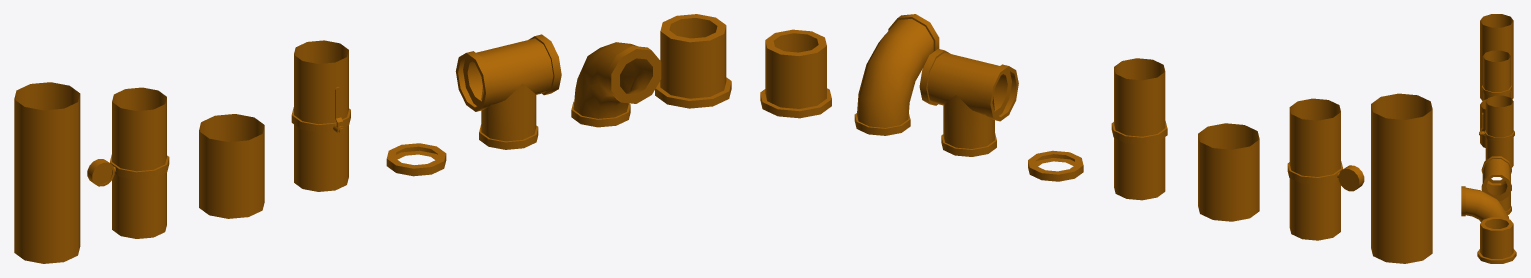
File: SM_Pipes.fbx
The picture shows the model from 3 angles, left to right: view 1: azimuth 30°, elevation 25°; view 2: azimuth 150°, elevation 25°; view 3: azimuth 270°, elevation 25°; orthographic projection. The views are drawn at different scales.
Visible parts, largest first — view 1: GEO_Pipe, GEO_Pipe_Gauge, GEO_Pipe_Intersect, GEO_Pipe_Valve, GEO_Pipe_Half, GEO_Pipe_Base, GEO_Pipe_Corner, GEO_Pipe_Ring; view 2: GEO_Pipe, GEO_Pipe_Gauge, GEO_Pipe_Intersect, GEO_Pipe_Valve, GEO_Pipe_Corner, GEO_Pipe_Half, GEO_Pipe_Base, GEO_Pipe_Ring; view 3: GEO_Pipe_Valve, GEO_Pipe_Base, GEO_Pipe, GEO_Pipe_Gauge, GEO_Pipe_Intersect, GEO_Pipe_Corner, GEO_Pipe_Half.
Part boxes in pixels (left/top/right/bottom): GEO_Pipe: left=14, top=82, right=80, bottom=263; GEO_Pipe_Gauge: left=87, top=87, right=169, bottom=238; GEO_Pipe_Intersect: left=455, top=34, right=561, bottom=149; GEO_Pipe_Valve: left=291, top=40, right=350, bottom=191; GEO_Pipe_Half: left=199, top=114, right=264, bottom=218; GEO_Pipe_Base: left=655, top=14, right=731, bottom=108; GEO_Pipe_Corner: left=571, top=42, right=661, bottom=127; GEO_Pipe_Ring: left=386, top=143, right=446, bottom=176; GEO_Pipe: left=1371, top=93, right=1432, bottom=263; GEO_Pipe_Gauge: left=1287, top=98, right=1364, bottom=240; GEO_Pipe_Intersect: left=919, top=48, right=1018, bottom=156; GEO_Pipe_Valve: left=1111, top=58, right=1167, bottom=200; GEO_Pipe_Corner: left=854, top=14, right=939, bottom=135; GEO_Pipe_Half: left=1198, top=123, right=1259, bottom=221; GEO_Pipe_Base: left=760, top=29, right=831, bottom=118; GEO_Pipe_Ring: left=1028, top=150, right=1083, bottom=181; GEO_Pipe_Valve: left=1479, top=95, right=1514, bottom=167; GEO_Pipe_Base: left=1477, top=217, right=1516, bottom=263; GEO_Pipe: left=1480, top=14, right=1513, bottom=100; GEO_Pipe_Gauge: left=1481, top=50, right=1511, bottom=100; GEO_Pipe_Intersect: left=1481, top=156, right=1511, bottom=214; GEO_Pipe_Corner: left=1461, top=186, right=1509, bottom=221; GEO_Pipe_Half: left=1480, top=99, right=1486, bottom=147.
Bounding box in the file's own units: 383 × 81.42 × 51.5.
